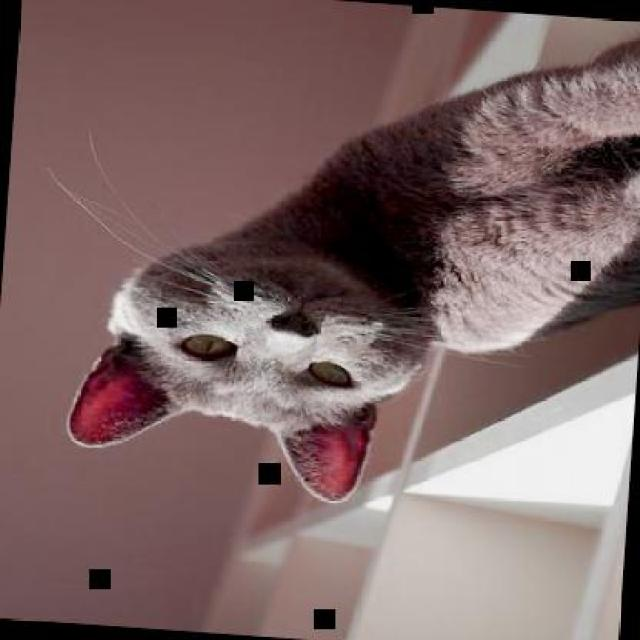cat: (61, 0, 638, 526)
